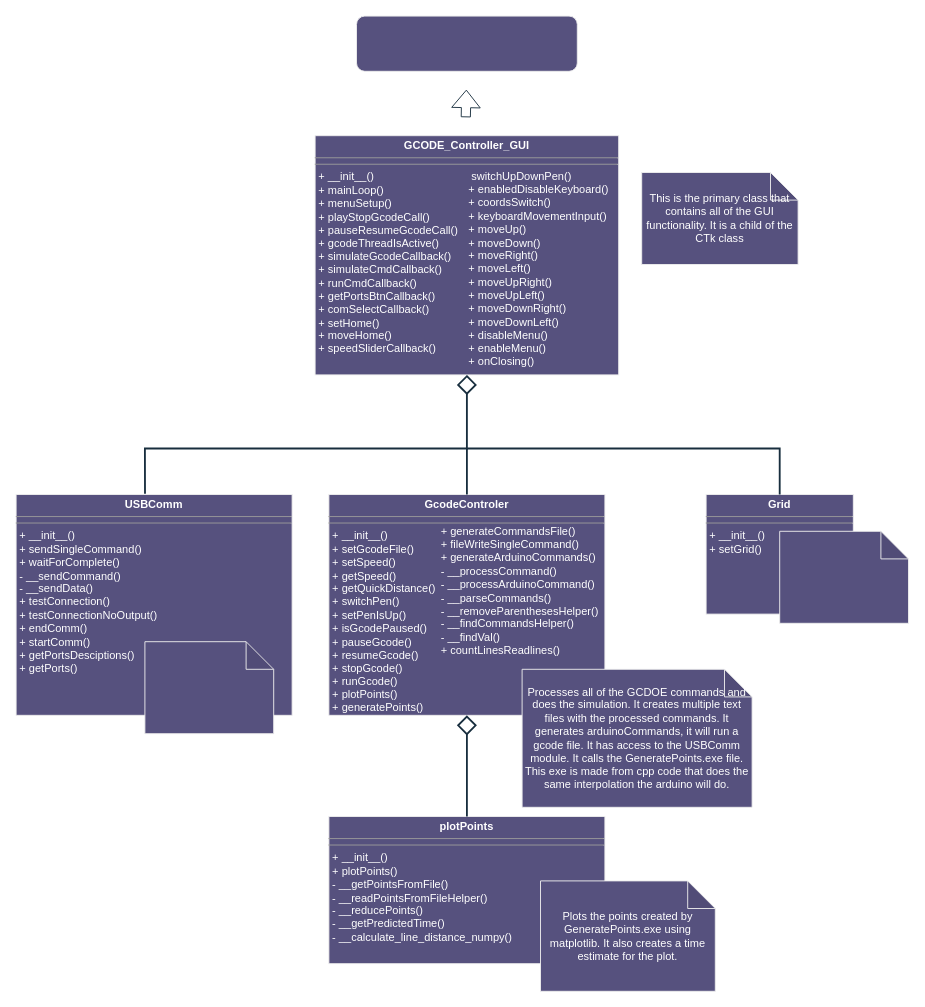
This 925x1007 diagram has some shape labels left out. The shapes that lost their labels are listed below. From the top down, each one's centre as x and y in pixels, then its label:
At [466,43]: "CustomTikinter.CTk".
At [843,576]: "Used as part of the GUI to help place the widgets in the correct spot.".
At [209,687]: "Handles all the usb communications.".
